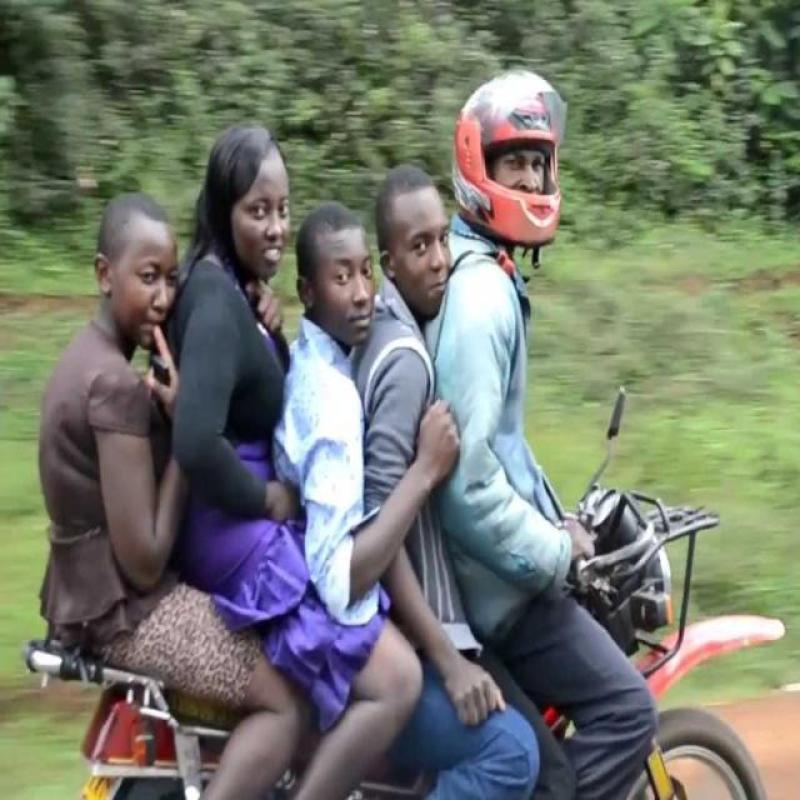nohelmet: (188, 91, 300, 275), (372, 149, 460, 329), (85, 187, 185, 343), (290, 191, 381, 345)
